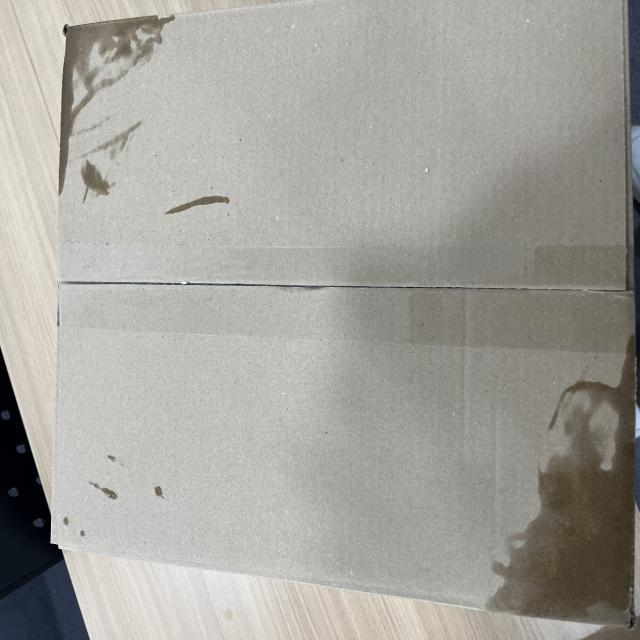wet: (485, 324, 639, 622), (61, 20, 167, 176)
